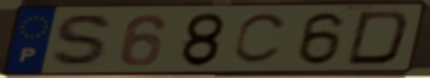6: (292, 10, 349, 67), (117, 13, 168, 69)
8: (179, 11, 228, 68)
C: (230, 11, 292, 67)
D: (342, 8, 413, 67)
S: (48, 12, 118, 70)
